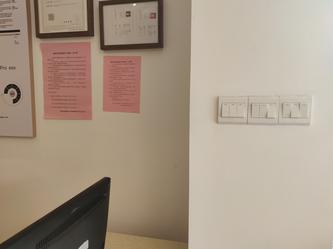switch: (300, 102, 310, 121), (291, 101, 301, 119), (266, 103, 277, 119), (250, 101, 260, 118), (221, 101, 230, 118), (259, 102, 267, 119), (282, 101, 290, 118), (229, 102, 237, 118), (237, 102, 245, 118)
